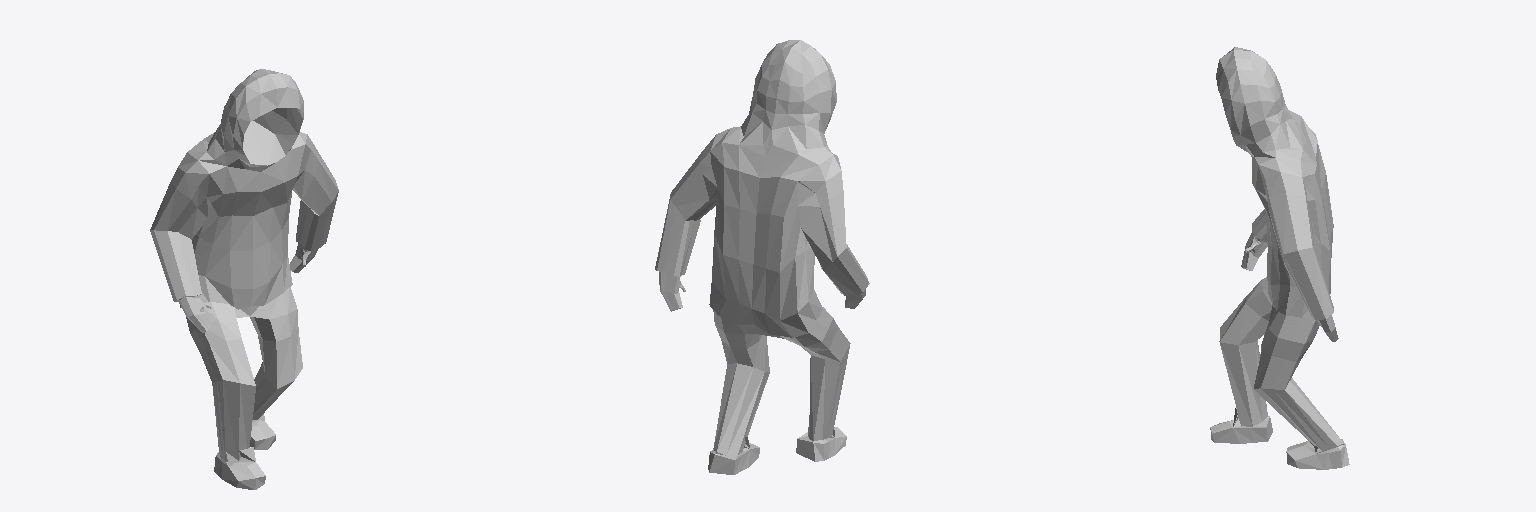
Rendered from Shadowmanv_000032.obj.
3 renders of one model, left to right at view 1: azimuth 30°, elevation 25°; view 2: azimuth 150°, elevation 25°; view 3: azimuth 270°, elevation 25°, orthographic.
Parts seen in each view (by area): view 1: Cube.000; view 2: Cube.000; view 3: Cube.000.
Part boxes in pixels (bbox=[...]): Cube.000: bbox=[150, 69, 338, 489]; Cube.000: bbox=[655, 40, 869, 474]; Cube.000: bbox=[1210, 47, 1349, 469].
Bounding box in the file's own units: 5.16 × 10.98 × 3.44.